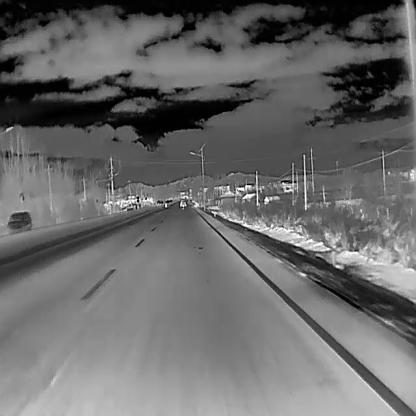car: (5, 210, 32, 233), (179, 200, 186, 207), (156, 199, 160, 206), (160, 199, 163, 204)
